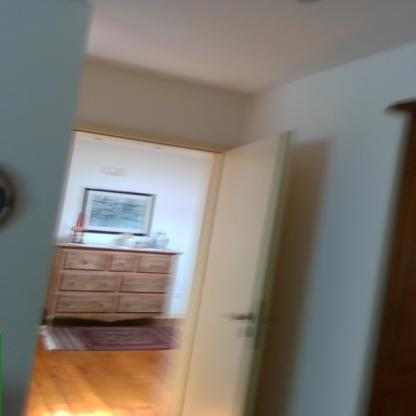open: (21, 111, 301, 414)
